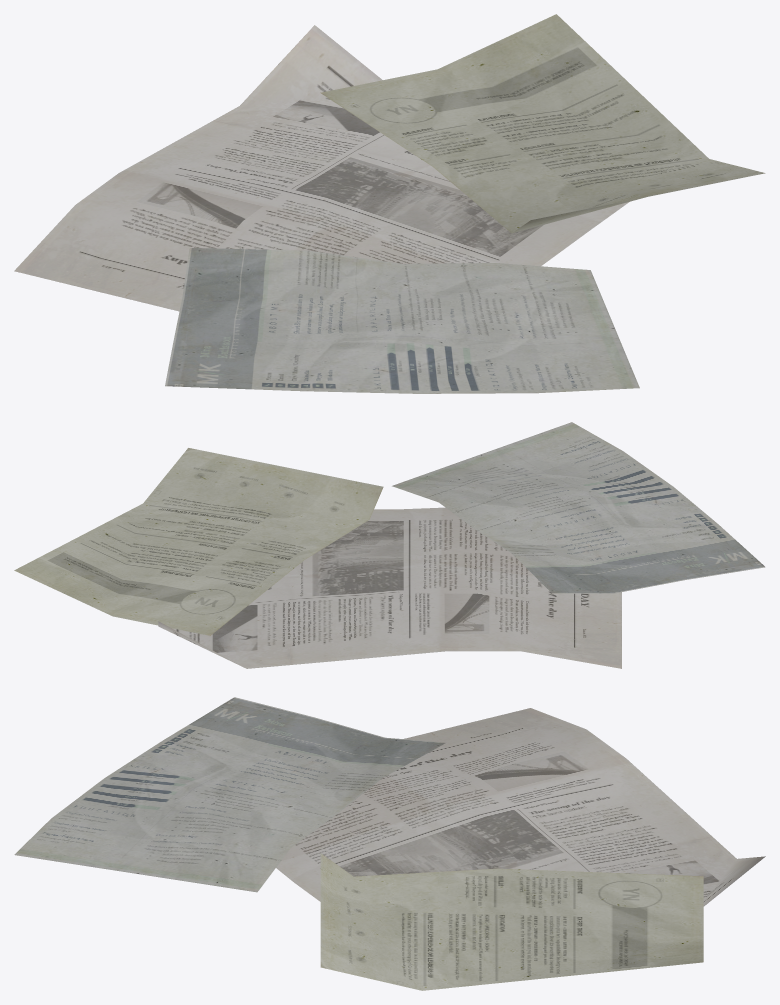
The model's file is SM_Debris_Paper_Set6.fbx.
3 renders of one model, top to bottom at view 1: azimuth 30°, elevation 25°; view 2: azimuth 150°, elevation 25°; view 3: azimuth 270°, elevation 25°, orthographic. The views are drawn at different scales.
Visible parts, largest first — view 1: SM_Debris_Paper_Set6_LOD0; view 2: SM_Debris_Paper_Set6_LOD0; view 3: SM_Debris_Paper_Set6_LOD0.
Boxes of the visible parts, x1,y1,x2,y2 form: SM_Debris_Paper_Set6_LOD0: [14, 14, 765, 393]; SM_Debris_Paper_Set6_LOD0: [14, 422, 765, 668]; SM_Debris_Paper_Set6_LOD0: [14, 697, 765, 990].
Bounding box in the file's own units: 45.9 × 50.48 × 3.18.
1 material, 1 textured.
